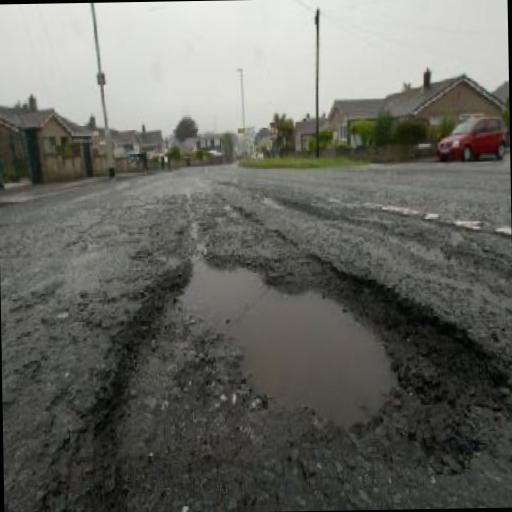pothole: (86, 238, 512, 512)
